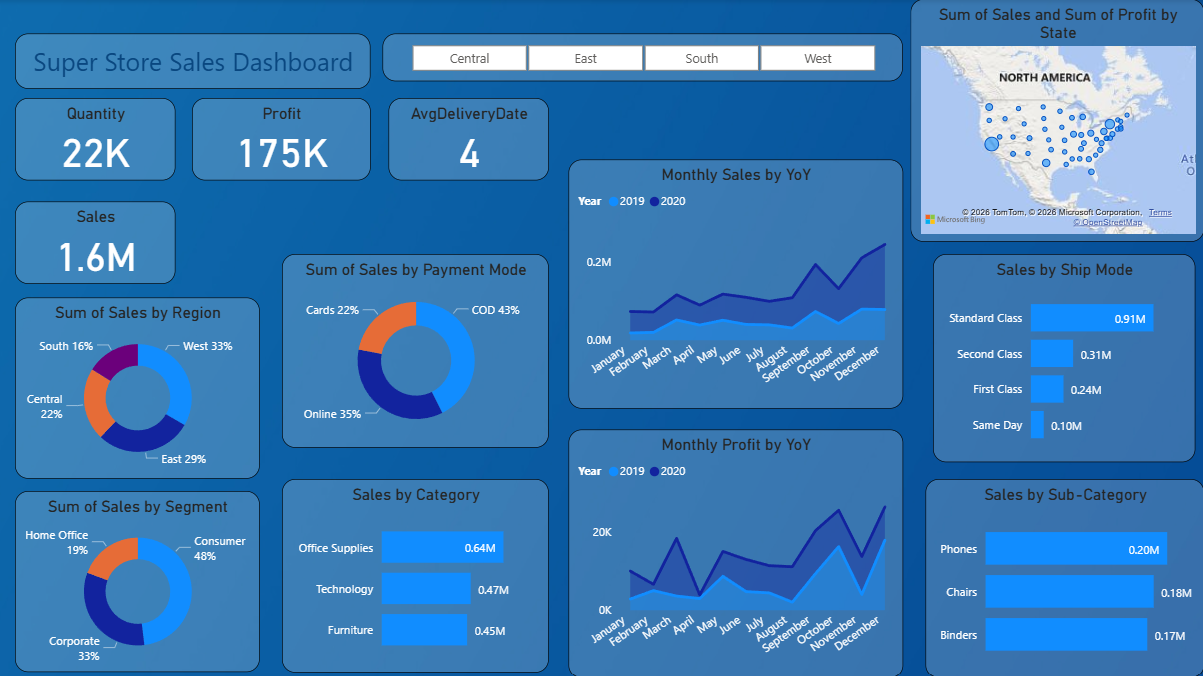

Layout of this report page (visuals, bound fields, positions):
{"tool":"powerbi","page":{"name":"Page 1","canvas":[1280,720],"ordinal":0},"visuals":[{"type":"clusteredBarChart","title":" Sales by Category","fields":{"Category":["SuperStore_Sales_Dataset.Category"],"Y":["Sum(SuperStore_Sales_Dataset.Sales)"]},"box":[302,508.6,282.9,205],"z":0},{"type":"clusteredBarChart","title":" Sales by Sub-Category","fields":{"Category":["SuperStore_Sales_Dataset.Sub-Category"],"Y":["Sum(SuperStore_Sales_Dataset.Sales)"]},"box":[983.8,508.6,295.6,211.4],"z":1000},{"type":"clusteredBarChart","title":" Sales by Ship Mode","fields":{"Category":["SuperStore_Sales_Dataset.Ship Mode"],"Y":["Sum(SuperStore_Sales_Dataset.Sales)"]},"box":[991.8,270.2,278.1,220.9],"z":2000},{"type":"stackedAreaChart","title":"Monthly Sales by YoY","fields":{"Y":["Sum(SuperStore_Sales_Dataset.Sales)"],"Series":["SuperStore_Sales_Dataset.Order Date.Variation.Date Hierarchy.Year"],"Category":["SuperStore_Sales_Dataset.Order Date.Variation.Date Hierarchy.Month"]},"box":[605.6,170.1,354.4,263.8],"z":3000},{"type":"stackedAreaChart","title":"Monthly Profit by YoY","fields":{"Series":["SuperStore_Sales_Dataset.Order Date.Variation.Date Hierarchy.Year"],"Category":["SuperStore_Sales_Dataset.Order Date.Variation.Date Hierarchy.Month"],"Y":["Sum(SuperStore_Sales_Dataset.Profit)"]},"box":[605.6,456.2,354.4,263.8],"z":4000},{"type":"map","fields":{"Category":["SuperStore_Sales_Dataset.State"],"Size":["Sum(SuperStore_Sales_Dataset.Sales)"]},"box":[967.9,0,311.5,257.5],"z":5000},{"type":"donutChart","fields":{"Category":["SuperStore_Sales_Dataset.Segment"],"Y":["Sum(SuperStore_Sales_Dataset.Sales)"]},"box":[19.1,521.3,259.1,192.3],"z":6000},{"type":"donutChart","fields":{"Category":["SuperStore_Sales_Dataset.Region"],"Y":["Sum(SuperStore_Sales_Dataset.Sales)"]},"box":[19.1,316.3,259.1,192.3],"z":7000},{"type":"donutChart","fields":{"Category":["SuperStore_Sales_Dataset.Payment Mode"],"Y":["Sum(SuperStore_Sales_Dataset.Sales)"]},"box":[302,270.2,282.9,205],"z":8000},{"type":"slicer","fields":{"Values":["SuperStore_Sales_Dataset.Region"]},"box":[408.5,36.6,551.5,50.9],"z":9000},{"type":"textbox","box":[19.1,36.6,376.7,58.8],"z":10000},{"type":"card","title":"Sales","fields":{"Values":["Sum(SuperStore_Sales_Dataset.Sales)"]},"box":[19.1,214.6,170.1,87.4],"z":11000},{"type":"card","title":"Quantity","fields":{"Values":["Sum(SuperStore_Sales_Dataset.Quantity)"]},"box":[19.1,104.9,170.1,87.4],"z":12000},{"type":"card","title":"Profit","fields":{"Values":["Sum(SuperStore_Sales_Dataset.Profit)"]},"box":[206.6,104.9,189.1,87.4],"z":13000},{"type":"card","title":"AvgDeliveryDate","fields":{"Values":["Avg(SuperStore_Sales_Dataset.AvgDilevery)"]},"box":[414.8,104.9,170.1,87.4],"z":14000}]}

Visuals, with their boxes in screenshot pixels (x1, y1, x2, y2), scaled from the page's 1280x720 canvas onto the 1203x676 screenshot:
" Sales by Category" clusteredBarChart: bbox=(284, 478, 550, 670)
" Sales by Sub-Category" clusteredBarChart: bbox=(925, 478, 1202, 675)
" Sales by Ship Mode" clusteredBarChart: bbox=(932, 254, 1194, 461)
"Monthly Sales by YoY" stackedAreaChart: bbox=(569, 160, 902, 407)
"Monthly Profit by YoY" stackedAreaChart: bbox=(569, 428, 902, 675)
map - SuperStore_Sales_Dataset.State x Sum(SuperStore_Sales_Dataset.Sales): bbox=(910, 0, 1202, 242)
donutChart - SuperStore_Sales_Dataset.Segment x Sum(SuperStore_Sales_Dataset.Sales): bbox=(18, 489, 261, 670)
donutChart - SuperStore_Sales_Dataset.Region x Sum(SuperStore_Sales_Dataset.Sales): bbox=(18, 297, 261, 478)
donutChart - SuperStore_Sales_Dataset.Payment Mode x Sum(SuperStore_Sales_Dataset.Sales): bbox=(284, 254, 550, 446)
slicer - SuperStore_Sales_Dataset.Region: bbox=(384, 34, 902, 82)
textbox: bbox=(18, 34, 372, 90)
"Sales" card: bbox=(18, 201, 178, 284)
"Quantity" card: bbox=(18, 98, 178, 181)
"Profit" card: bbox=(194, 98, 372, 181)
"AvgDeliveryDate" card: bbox=(390, 98, 550, 181)
